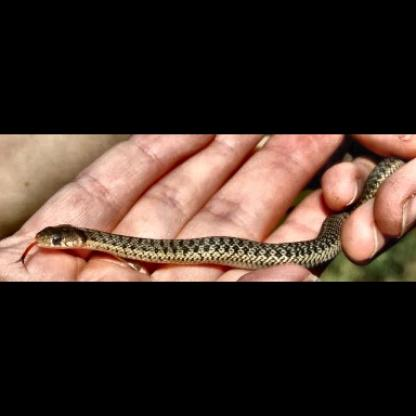Snake: (28, 152, 392, 270)
